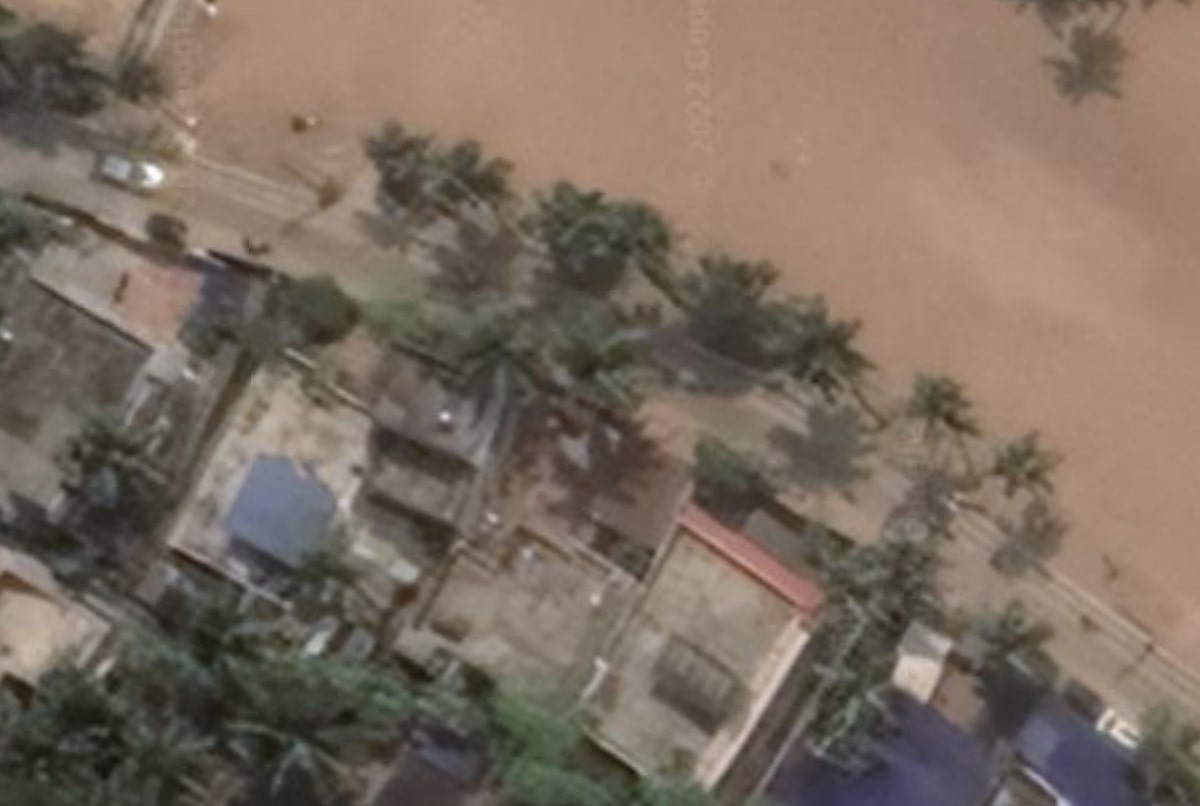coconut: (228, 685, 377, 806), (64, 404, 181, 499), (787, 305, 876, 413), (984, 416, 1068, 509), (918, 369, 984, 451), (370, 131, 440, 204)
